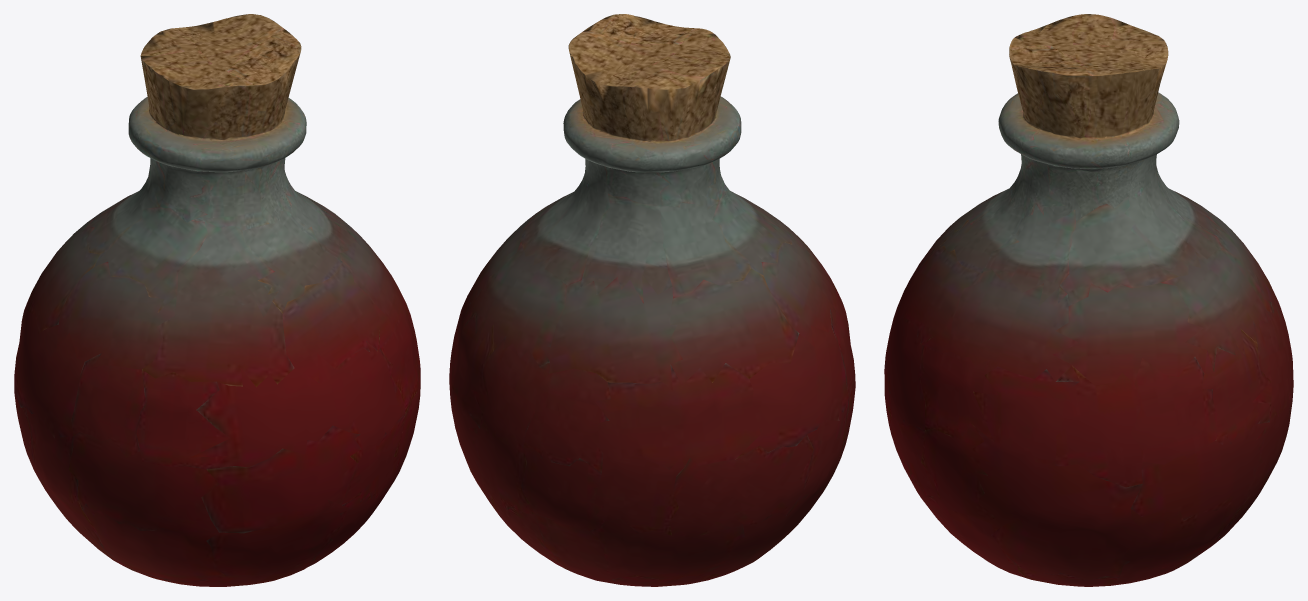
Rendered from potionred.glb.
The picture shows the model from 3 angles, left to right: view 1: azimuth 30°, elevation 25°; view 2: azimuth 150°, elevation 25°; view 3: azimuth 270°, elevation 25°; orthographic projection.
Visible parts, largest first — view 1: Mesh_0; view 2: Mesh_0; view 3: Mesh_0.
Boxes of the visible parts, left/top/right/bottom form: Mesh_0: left=14, top=14, right=420, bottom=586; Mesh_0: left=449, top=14, right=855, bottom=586; Mesh_0: left=884, top=14, right=1293, bottom=586.
Size of the model in its own units: 1.36 by 1.9 by 1.36.
Materials: 1 (1 with a texture image).
